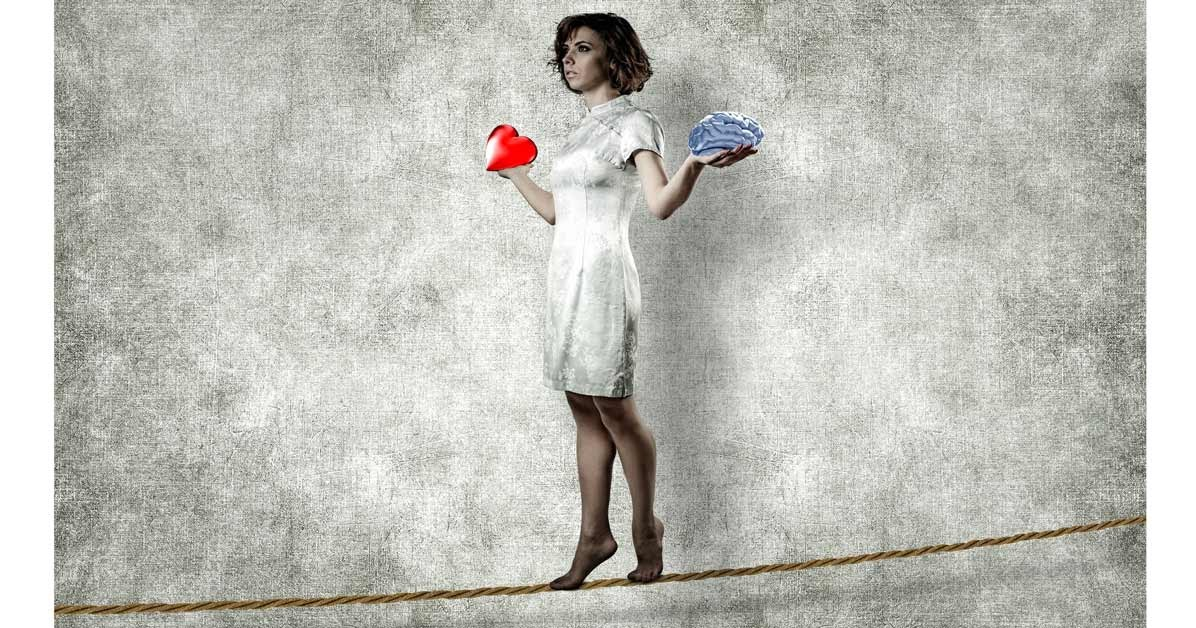human: (479, 7, 780, 607)
